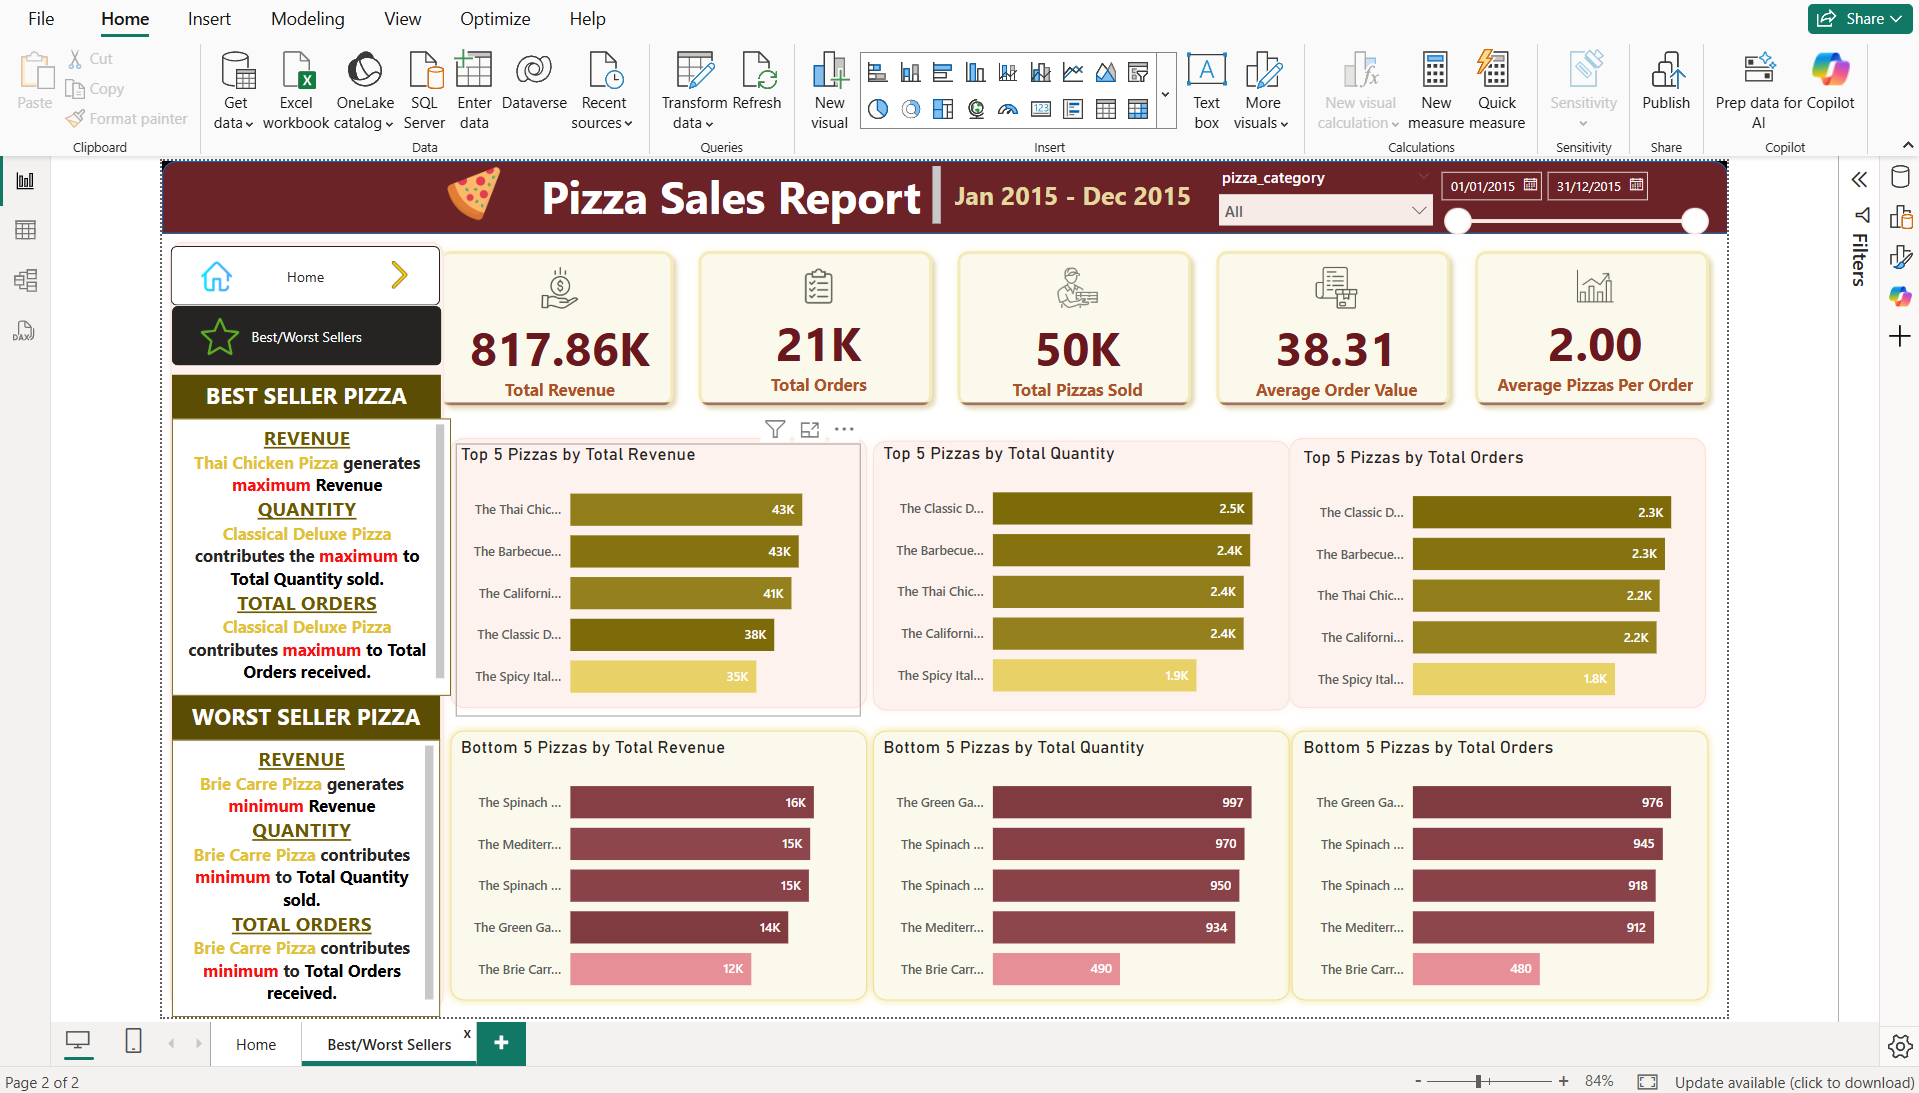

The dashboard page shown, as its layout file describes it:
{"tool":"powerbi","page":{"name":"Best/Worst Sellers","canvas":[1500,820],"ordinal":1},"visuals":[{"type":"cardVisual","fields":{"Data":["pizza_sales.Total Revenue","pizza_sales.Total Orders","pizza_sales.Total Pizzas Sold","pizza_sales.Average Order Value","pizza_sales.Average Pizzas Per Order"]},"box":[249.2,69.5,1250.8,182],"z":0},{"type":"shape","box":[0,0,1500,69.5],"z":1000},{"type":"textbox","box":[357.6,0,393.2,66.1],"z":2000},{"type":"textbox","box":[744.1,11.9,257.6,47.5],"z":3000},{"type":"image","box":[254.2,0,89.8,62.7],"z":4000},{"type":"shape","box":[267.8,257.6,415.3,274.6],"z":5000},{"type":"shape","box":[672.9,537.3,415.3,274.6],"z":6000},{"type":"shape","box":[0,69.5,278,750.8],"z":7000},{"type":"textbox","box":[10.2,205.1,257.6,42.4],"z":8000},{"type":"textbox","box":[10.1,246.8,267.1,265.4],"z":9000},{"type":"textbox","box":[10.1,512.3,257,42.3],"z":10000},{"type":"slicer","fields":{"Values":["pizza_sales.pizza_category"]},"box":[1001.7,0,225.4,66.1],"z":11000},{"type":"slicer","fields":{"Values":["pizza_sales.order_date"]},"box":[1213.5,0,276.7,82.9],"z":12000},{"type":"shape","box":[1071.2,257.6,415.3,274.6],"z":13000},{"type":"shape","box":[1074.6,537.3,415.3,274.6],"z":14000},{"type":"shape","box":[267.8,537.3,415.3,274.6],"z":15000},{"type":"shape","box":[672.9,259.3,415.3,274.6],"z":16000},{"type":"clusteredBarChart","title":"Top 5 Pizzas by Total Revenue","fields":{"Category":["pizza_sales.pizza_name"],"Y":["pizza_sales.Total Revenue"]},"box":[281.4,271.2,388.1,261],"z":17000},{"type":"clusteredBarChart","title":"Top 5 Pizzas by Total Orders","fields":{"Category":["pizza_sales.pizza_name"],"Y":["pizza_sales.Total Orders"]},"box":[1088.1,272.9,388.1,261],"z":18000},{"type":"clusteredBarChart","title":"Bottom 5 Pizzas by Total Revenue","fields":{"Category":["pizza_sales.pizza_name"],"Y":["pizza_sales.Total Revenue"]},"box":[281.4,550.8,388.1,261],"z":19000},{"type":"clusteredBarChart","title":"Bottom 5 Pizzas by Total Orders","fields":{"Category":["pizza_sales.pizza_name"],"Y":["pizza_sales.Total Orders"]},"box":[1088.1,550.8,388.1,261],"z":20000},{"type":"clusteredBarChart","title":"Bottom 5 Pizzas by Total Quantity","fields":{"Category":["pizza_sales.pizza_name"],"Y":["pizza_sales.Total Pizzas Sold"]},"box":[686.4,550.8,388.1,261],"z":21000},{"type":"clusteredBarChart","title":"Top 5 Pizzas by Total Quantity","fields":{"Category":["pizza_sales.pizza_name"],"Y":["pizza_sales.Total Pizzas Sold"]},"box":[686.4,269.5,388.1,261],"z":22000},{"type":"textbox","box":[10.1,554.6,257,265.4],"z":23000},{"type":"pageNavigator","box":[9.8,139,258.4,57.6],"z":24000},{"type":"pageNavigator","box":[8.4,81.5,258.4,57.6],"z":25000},{"type":"image","box":[188.2,91.3,78.7,36.5],"z":26000},{"type":"image","box":[8.4,144.7,94.1,46.3],"z":27000},{"type":"image","box":[9.8,91.3,85.7,39.3],"z":28000}]}

Visuals, with their boxes on the page's 1500x820 design canvas (x1, y1, x2, y2). These are canvas units, not pixel positions in the 1919x1093 screenshot, which may show the page scaled, cropped or inside an application window:
cardVisual - pizza_sales.Total Revenue x pizza_sales.Total Orders: (249,70,1500,252)
shape: (0,0,1500,70)
textbox: (358,0,751,66)
textbox: (744,12,1002,59)
image: (254,0,344,63)
shape: (268,258,683,532)
shape: (673,537,1088,812)
shape: (0,70,278,820)
textbox: (10,205,268,248)
textbox: (10,247,277,512)
textbox: (10,512,267,555)
slicer - pizza_sales.pizza_category: (1002,0,1227,66)
slicer - pizza_sales.order_date: (1214,0,1490,83)
shape: (1071,258,1486,532)
shape: (1075,537,1490,812)
shape: (268,537,683,812)
shape: (673,259,1088,534)
"Top 5 Pizzas by Total Revenue" clusteredBarChart: (281,271,670,532)
"Top 5 Pizzas by Total Orders" clusteredBarChart: (1088,273,1476,534)
"Bottom 5 Pizzas by Total Revenue" clusteredBarChart: (281,551,670,812)
"Bottom 5 Pizzas by Total Orders" clusteredBarChart: (1088,551,1476,812)
"Bottom 5 Pizzas by Total Quantity" clusteredBarChart: (686,551,1074,812)
"Top 5 Pizzas by Total Quantity" clusteredBarChart: (686,270,1074,530)
textbox: (10,555,267,820)
pageNavigator: (10,139,268,197)
pageNavigator: (8,82,267,139)
image: (188,91,267,128)
image: (8,145,102,191)
image: (10,91,96,131)
